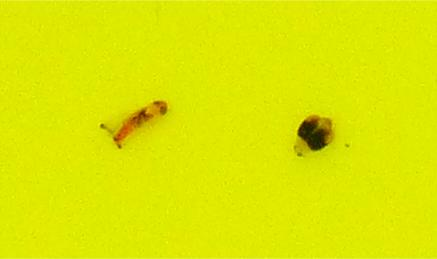Coleoptera: (296, 110, 337, 159)
Hemiptera: (100, 100, 172, 148)
